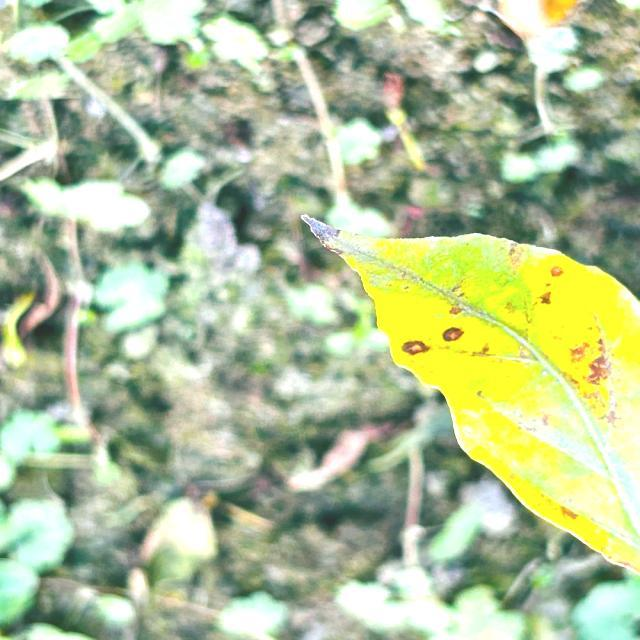Bercak Daun Serkospora: (300, 214, 640, 578)
